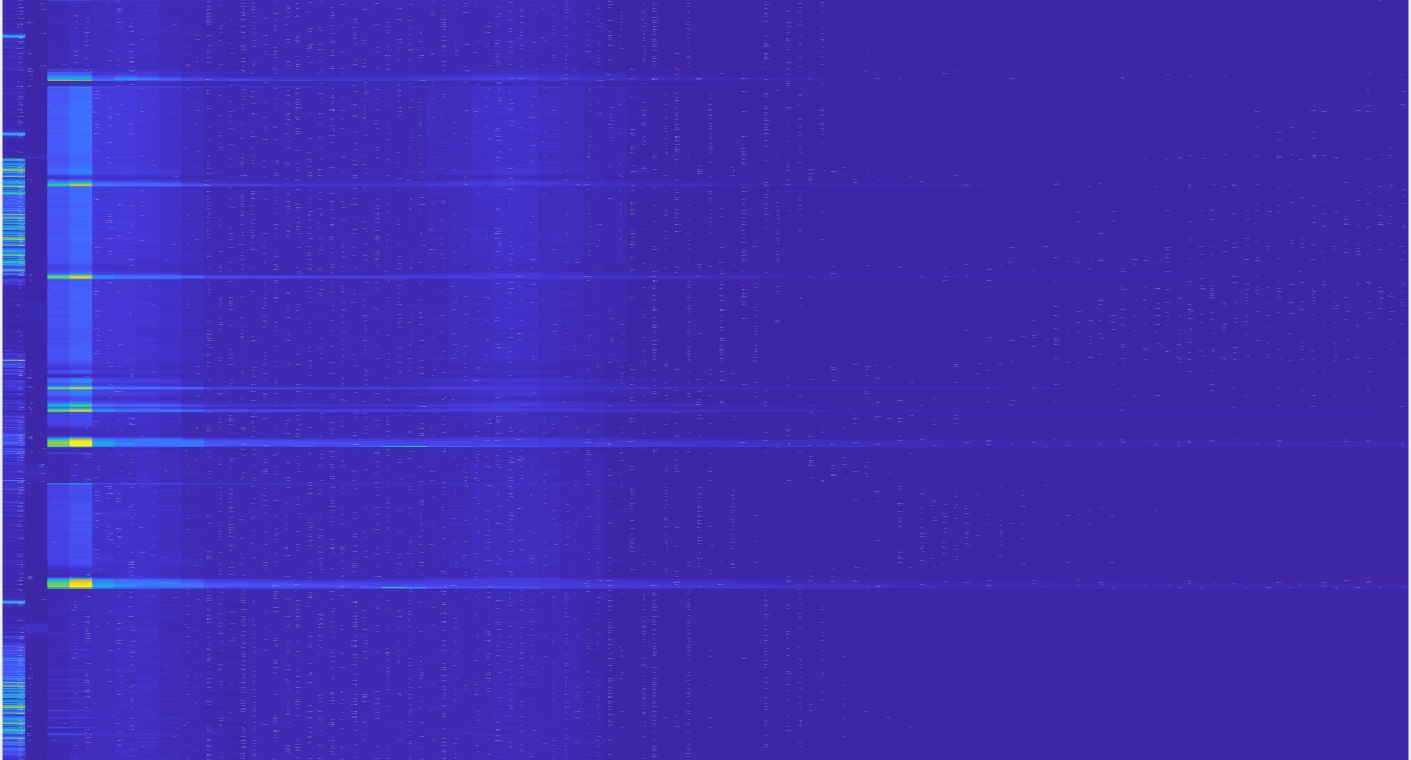leak: (27, 464, 311, 569), (37, 285, 322, 364), (40, 185, 291, 262), (29, 80, 147, 167)
